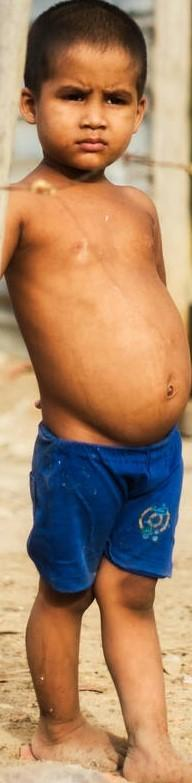Stunting: (4, 10, 192, 216)
